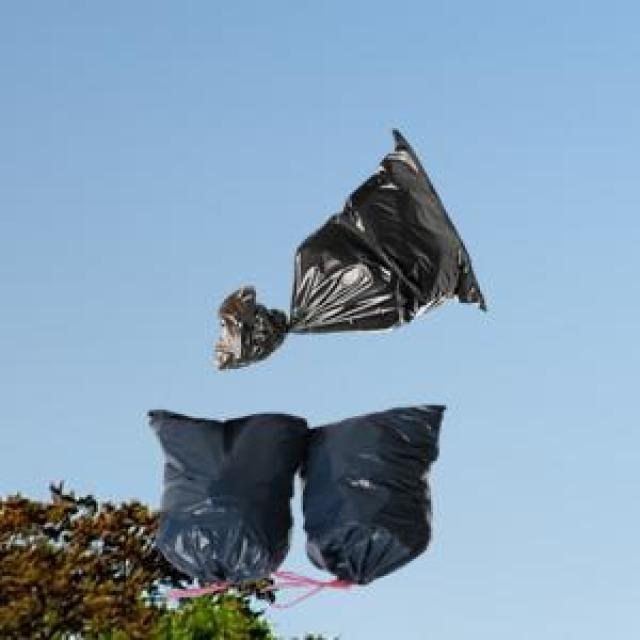waste: (216, 130, 485, 369), (149, 406, 442, 583)
